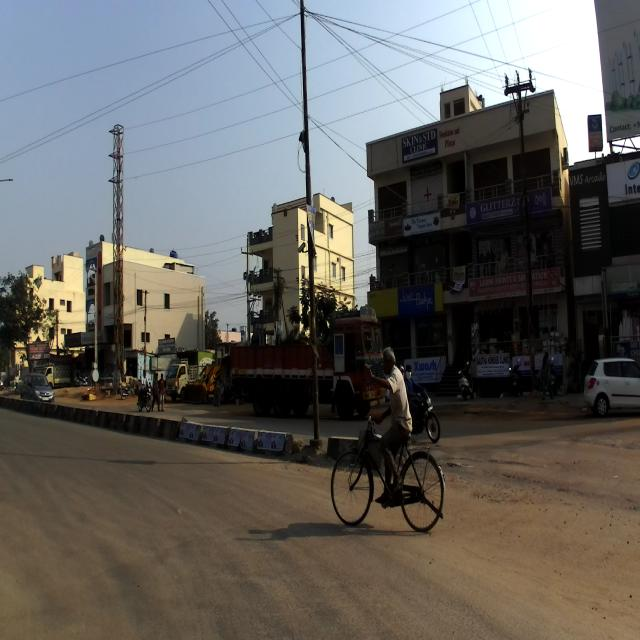bicycle ahead at: (328, 414, 446, 546)
